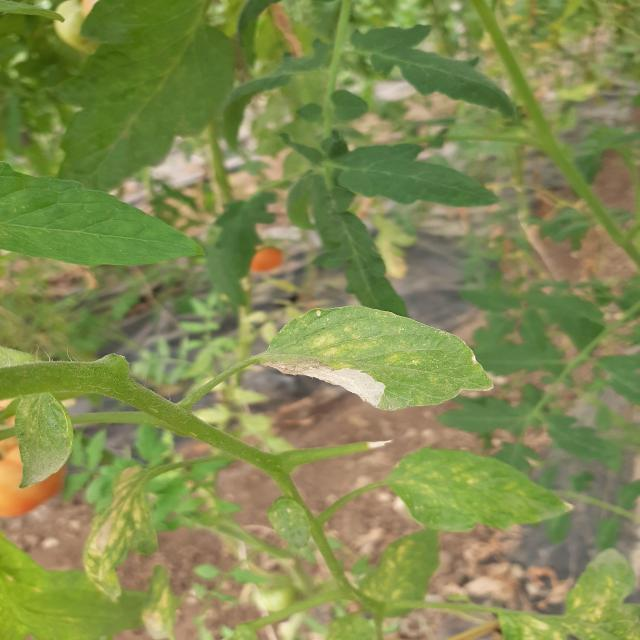Tuta absoluta: (265, 340, 388, 407)
